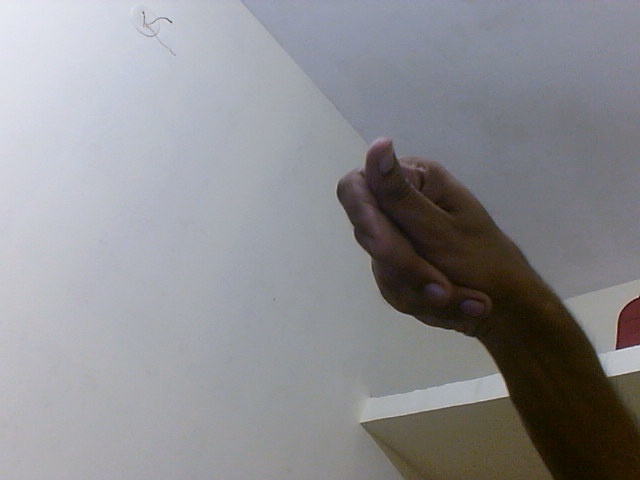hand: (333, 133, 538, 345)
